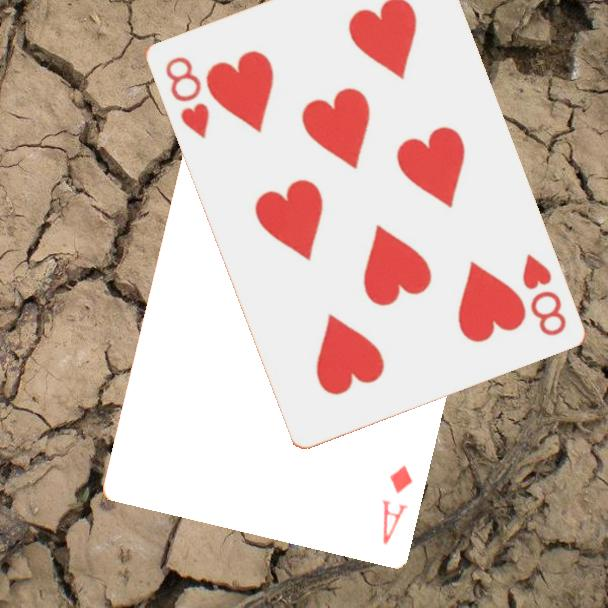d01: (378, 461, 415, 547)
h08: (161, 52, 212, 141), (518, 250, 569, 339)
